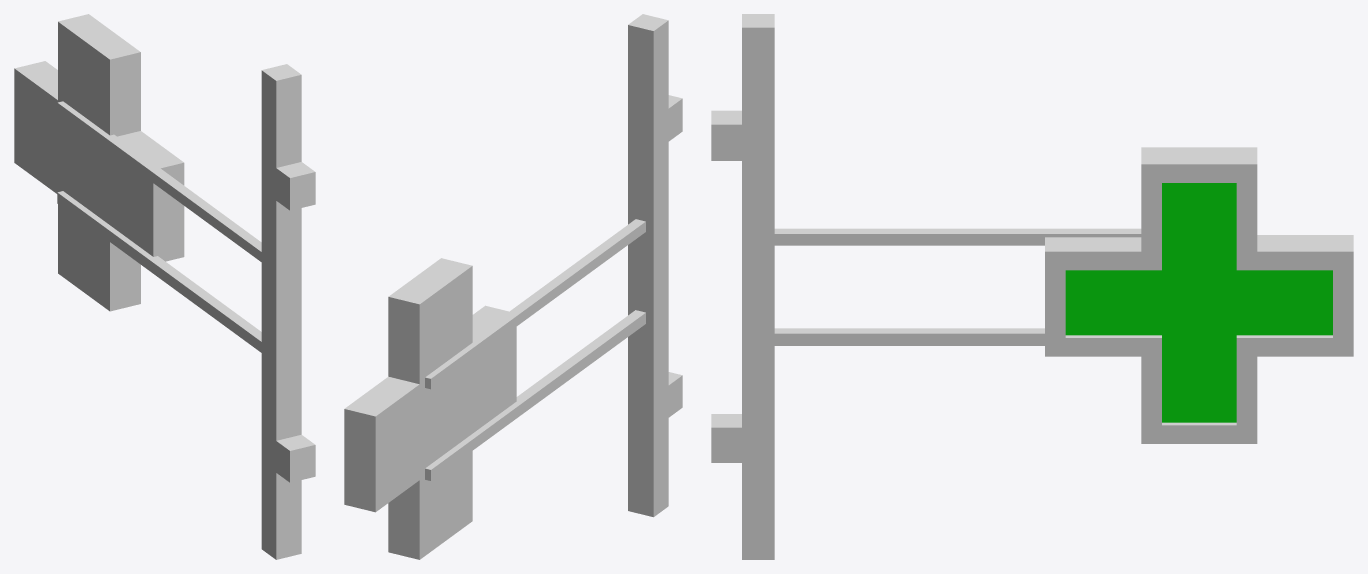
File: Apotheek sign.fbx
3 renders of one model, left to right at view 1: azimuth 30°, elevation 25°; view 2: azimuth 150°, elevation 25°; view 3: azimuth 270°, elevation 25°, orthographic. The views are drawn at different scales.
Parts seen in each view (by area): view 1: Cube.001; view 2: Cube.001; view 3: Cube.001.
Boxes of the visible parts, <box> form: Cube.001: <box>14,14,315,559</box>; Cube.001: <box>344,14,682,559</box>; Cube.001: <box>711,14,1353,559</box>.
Size of the model in its own units: 98.3 by 1014 by 1110.
